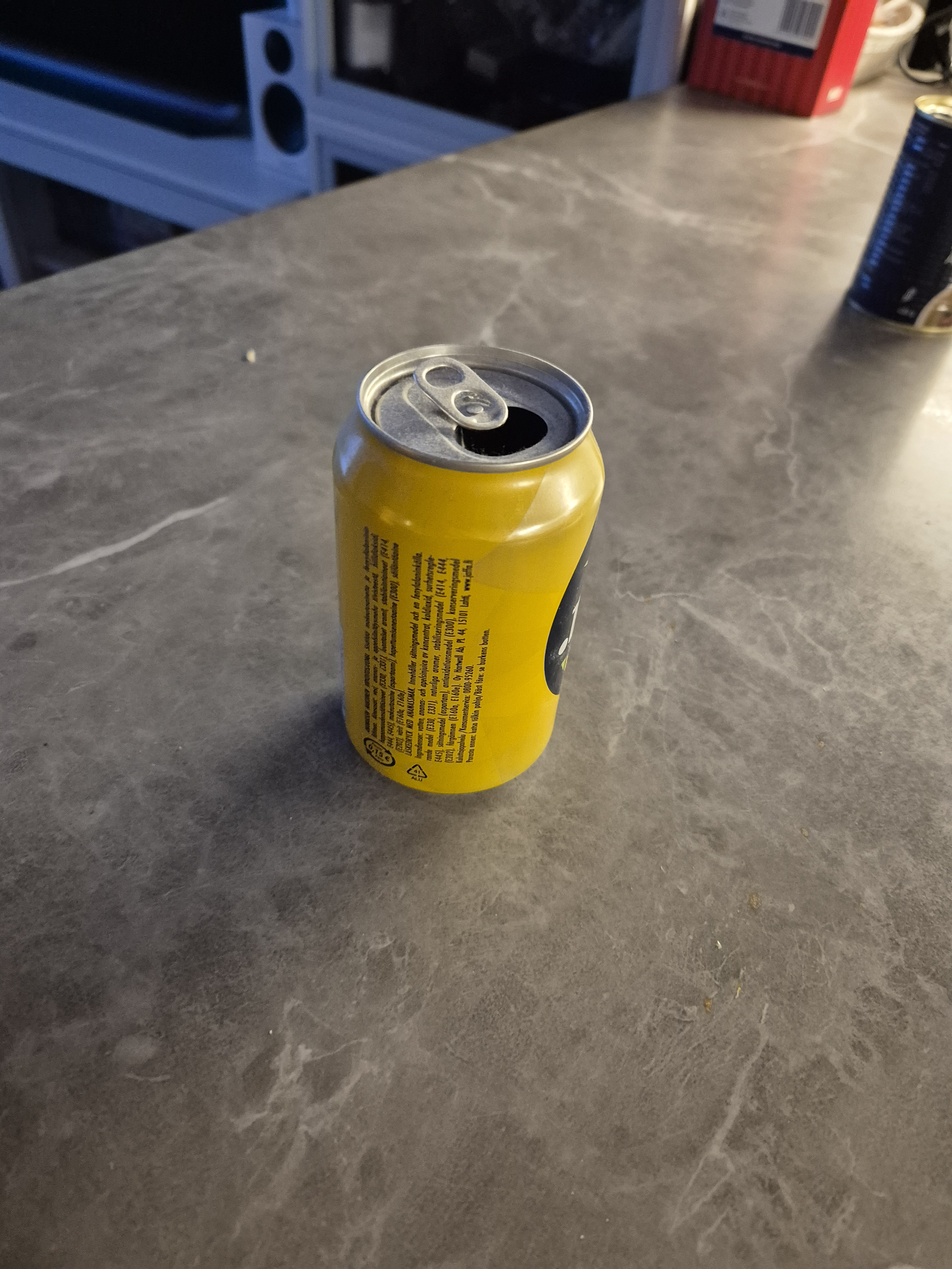Pantburk: (330, 341, 607, 799)
